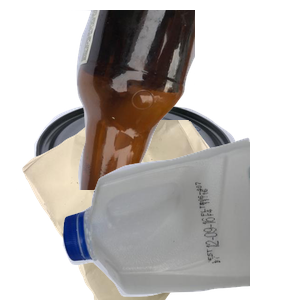glass: (60, 10, 300, 190)
metal: (16, 96, 244, 276)
plastic: (60, 135, 300, 300)
trash: (20, 120, 260, 300)
